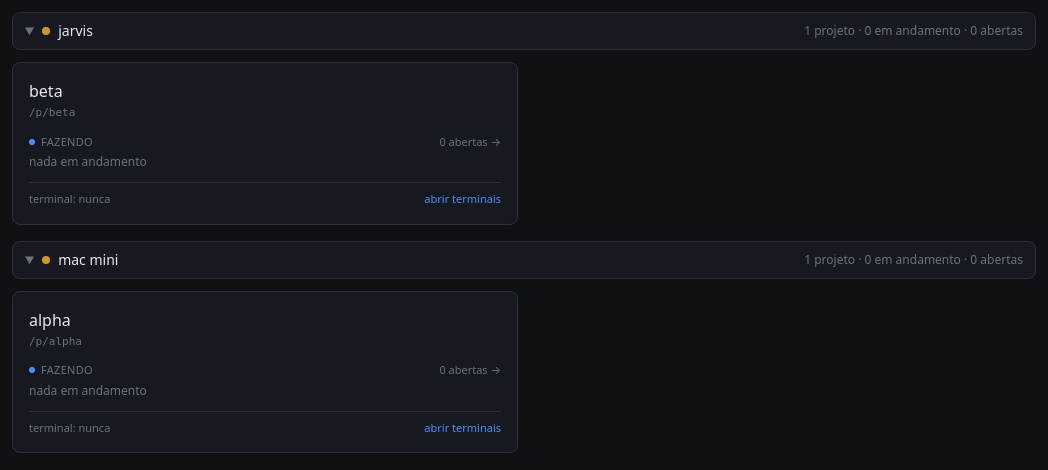
ProjectsByMachine › hides a machine's projects when its header is clicked, leaving the others
Click the button "▶ mac mini 1 projeto · 0 em andamento · 0 abertas" at (88, 259), box [12,240,1036,278]
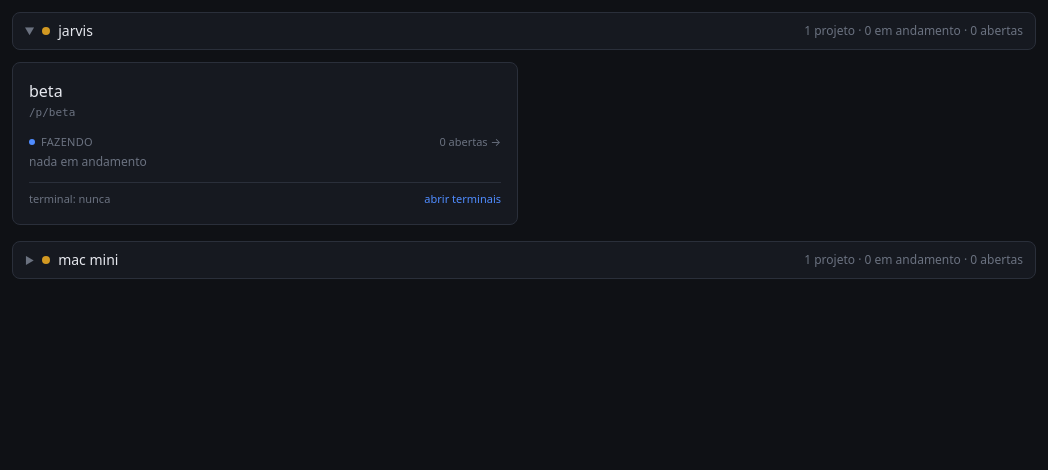
Expected: the link "beta" is shown, [29,80,63,102]
Expected: the button "▶ mac mini 1 projeto · 0 em andamento · 0 abertas" is collapsed, [12,240,1036,278]
Expected: the link "alpha" is gone
